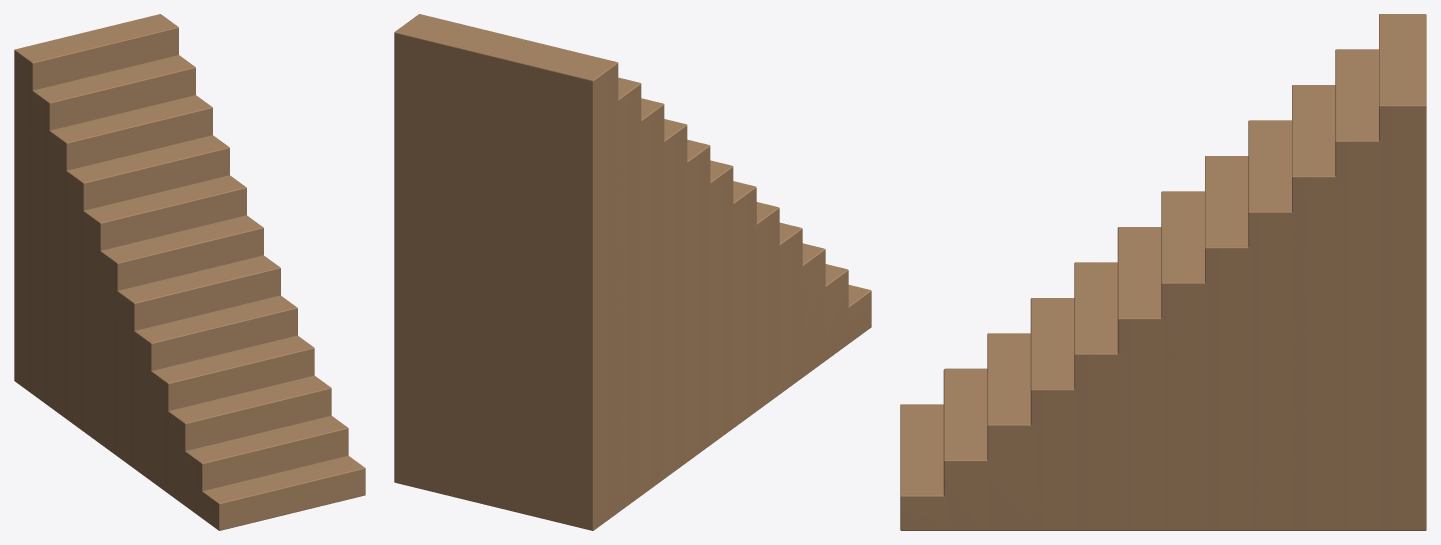
File: atelier-stairs.glb
3 views of the same model, side by side, from view 1: azimuth 30°, elevation 25°; view 2: azimuth 150°, elevation 25°; view 3: azimuth 270°, elevation 25° (orthographic). The views are drawn at different scales.
Visible parts, largest first — view 1: legs.255; view 2: legs.255; view 3: legs.255.
Boxes of the visible parts, x1,y1,x2,y2 form: legs.255: (14,14,365,530); legs.255: (394,14,871,530); legs.255: (900,14,1426,530).
Bounding box in the file's own units: 1 × 2.16 × 2.42.
